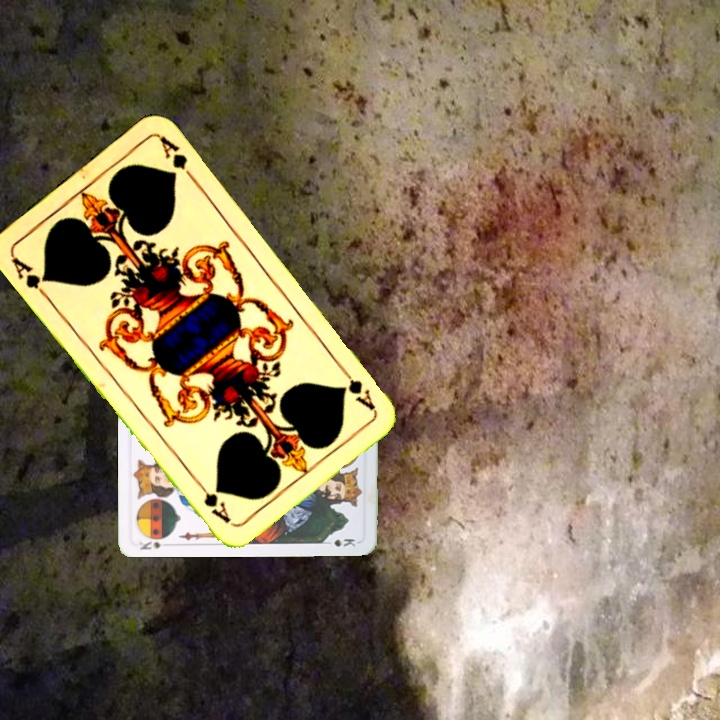GA: (7, 252, 52, 301), (336, 361, 378, 413)
SK: (136, 537, 173, 553)
